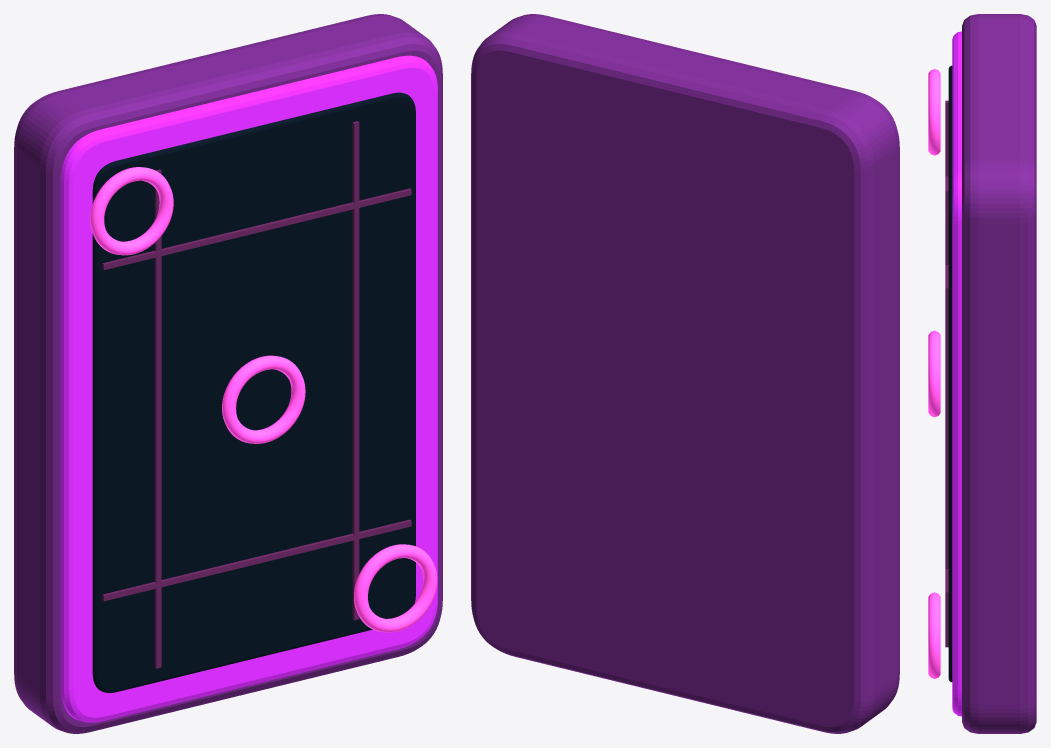
The model's file is board-o-high.glb.
3 views of the same model, side by side, from view 1: azimuth 30°, elevation 25°; view 2: azimuth 150°, elevation 25°; view 3: azimuth 270°, elevation 25° (orthographic). The views are drawn at different scales.
Visible parts, largest first — view 1: Inset dark game surface, Rounded rectangular beveled backplate, Raised neon perimeter, Vertical grid divider 2, Vertical grid divider 1, Raised Neon O mark 1, Raised Neon O mark 2, Raised Neon O mark 3, Horizontal grid divider 1, Horizontal grid divider 2; view 2: Rounded rectangular beveled backplate; view 3: Rounded rectangular beveled backplate, Raised neon perimeter, Inset dark game surface, Vertical grid divider 2, Raised Neon O mark 1, Raised Neon O mark 2, Raised Neon O mark 3, Vertical grid divider 1.
Boxes of the visible parts, bbox=[...] form: Inset dark game surface: bbox=[92, 92, 415, 692]; Rounded rectangular beveled backplate: bbox=[14, 14, 442, 733]; Raised neon perimeter: bbox=[61, 55, 437, 722]; Vertical grid divider 2: bbox=[352, 121, 359, 620]; Vertical grid divider 1: bbox=[154, 169, 161, 668]; Raised Neon O mark 1: bbox=[90, 167, 173, 255]; Raised Neon O mark 2: bbox=[222, 355, 305, 443]; Raised Neon O mark 3: bbox=[354, 544, 437, 632]; Horizontal grid divider 1: bbox=[102, 188, 411, 269]; Horizontal grid divider 2: bbox=[102, 519, 411, 601]; Rounded rectangular beveled backplate: bbox=[471, 14, 899, 733]; Rounded rectangular beveled backplate: bbox=[962, 14, 1036, 733]; Raised neon perimeter: bbox=[952, 31, 961, 716]; Inset dark game surface: bbox=[948, 65, 952, 682]; Vertical grid divider 2: bbox=[945, 189, 948, 647]; Raised Neon O mark 1: bbox=[928, 69, 940, 155]; Raised Neon O mark 2: bbox=[928, 330, 940, 417]; Raised Neon O mark 3: bbox=[928, 592, 940, 678]; Vertical grid divider 1: bbox=[945, 100, 948, 176].
Size of the model in its own units: 0.91 by 1.35 by 0.2323.
